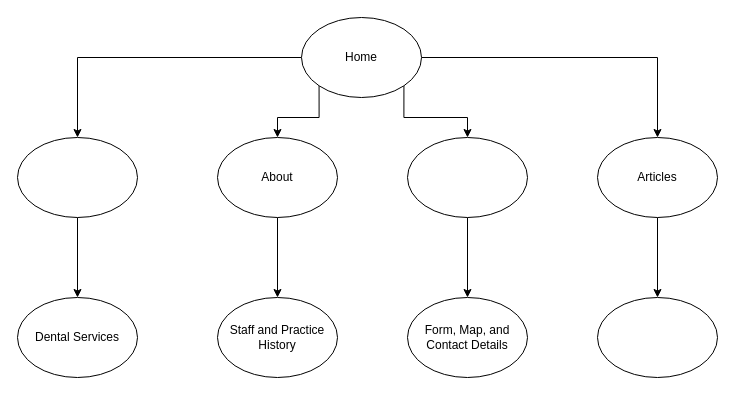
Some shapes in this 735 by 395 pixel diagram are drawn without their labels. Each missing label, with the centre of its shape:
Contact: (x=467, y=177)
Educational Content: (x=657, y=337)
Services: (x=77, y=177)
